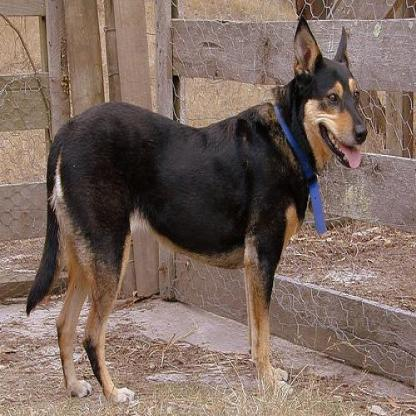kelpie: (22, 16, 367, 400)
